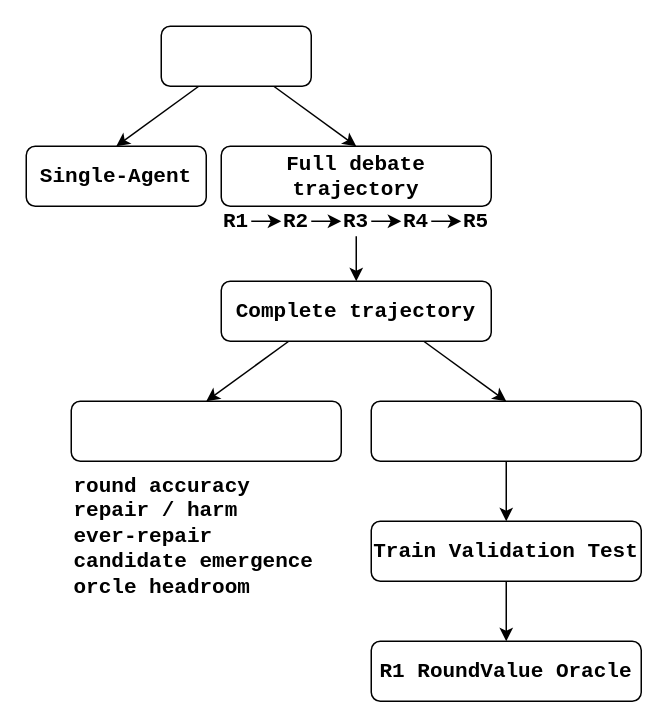
Image size: 668x728. Some labels were removed from this diagram. Here are the shapes that lost their labels. From the top down, the centre of each, then its label:
point 235,55: 50-task
point 205,430: Trajectory diagnostics
point 505,430: Prefix states
